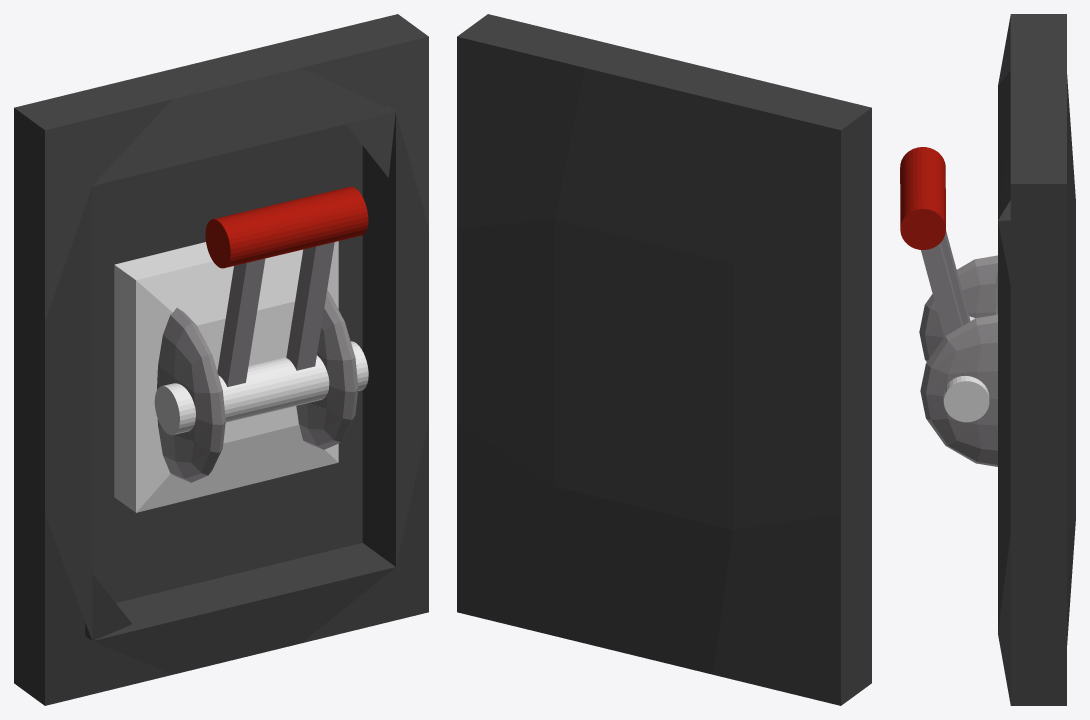
Rendered from leverAnimation.fbx.
3 views of the same model, side by side, from view 1: azimuth 30°, elevation 25°; view 2: azimuth 150°, elevation 25°; view 3: azimuth 270°, elevation 25° (orthographic). The views are drawn at different scales.
Visible parts, largest first — view 1: Cube, Cylinder; view 2: Cube; view 3: Cube, Cylinder.
Boxes of the visible parts, x1,y1,x2,y2 form: Cube: (14, 14, 428, 705); Cylinder: (154, 186, 368, 435); Cube: (457, 14, 871, 705); Cube: (919, 14, 1075, 705); Cylinder: (900, 147, 989, 422).
Size of the model in its own units: 314 by 450 by 137.
